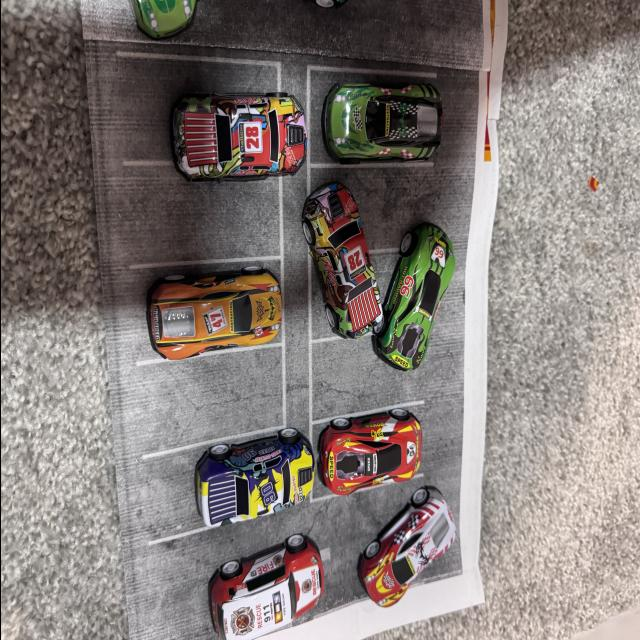car: (117, 74, 324, 228), (137, 406, 315, 582), (98, 244, 300, 390), (293, 390, 437, 546), (192, 522, 348, 640), (382, 217, 478, 397), (300, 160, 392, 340), (368, 468, 468, 600), (316, 67, 444, 165), (111, 0, 206, 82), (205, 0, 352, 17)
